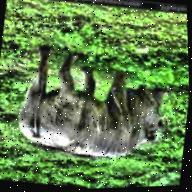boar: (16, 45, 192, 175)
